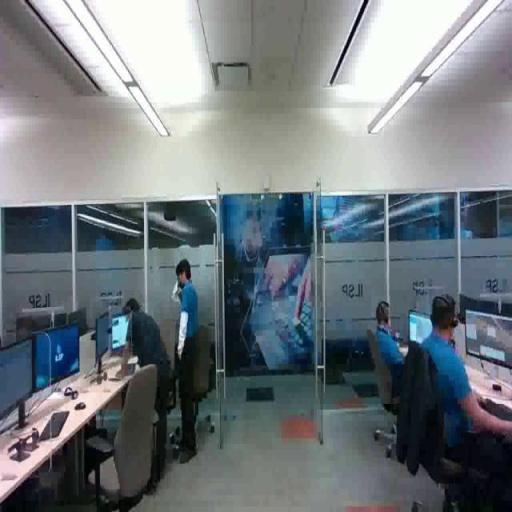person: (407, 292, 512, 488), (113, 298, 179, 461), (371, 297, 429, 423), (171, 256, 204, 464)
